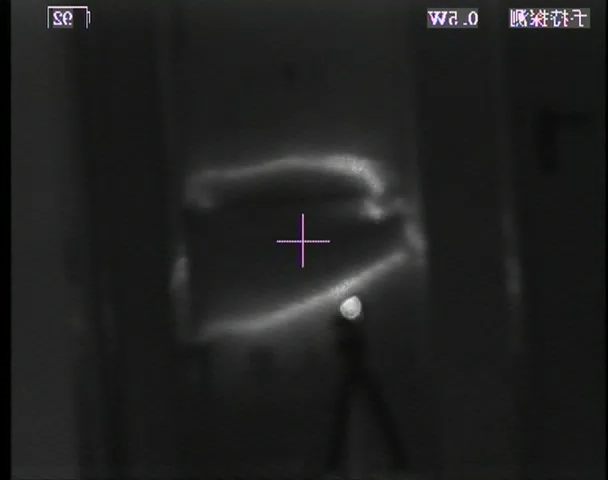my: (336, 292, 364, 322)
